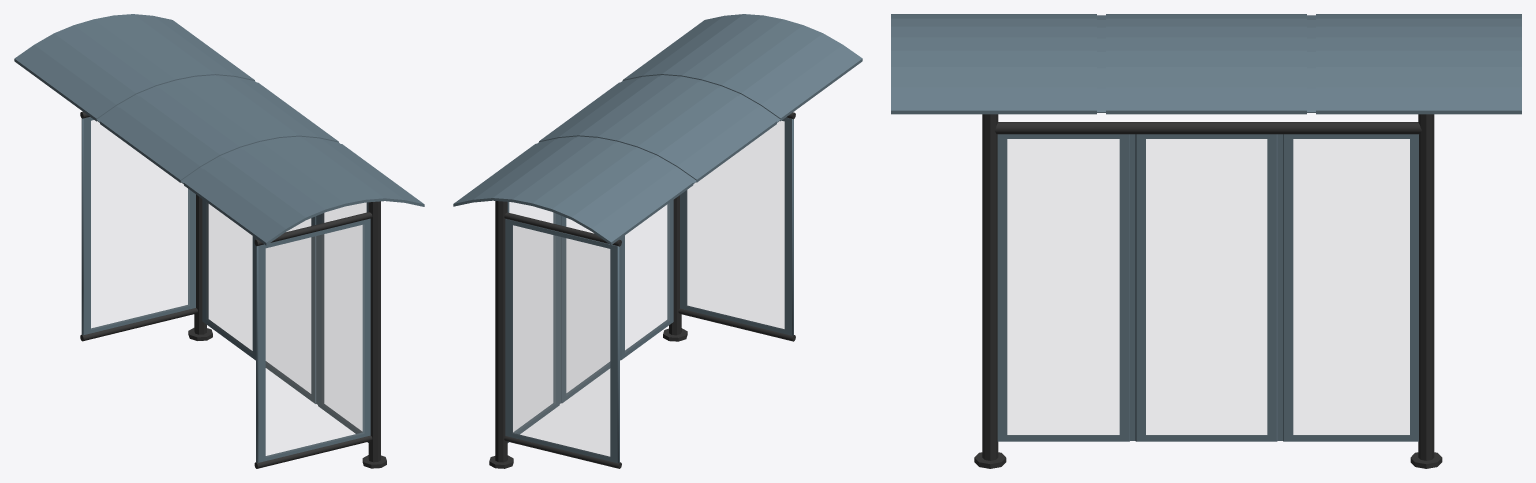
Rendered from BusStop.fbx.
3 renders of one model, left to right at view 1: azimuth 30°, elevation 25°; view 2: azimuth 150°, elevation 25°; view 3: azimuth 270°, elevation 25°, orthographic. The views are drawn at different scales.
Visible parts, largest first — view 1: Cover, Side2, Backside, Side1, Pole1, Pole2, BottomBar1, SideTopBar1, BottomBar2; view 2: Cover, Side1, Backside, Side2, Pole2, Pole1, SideTopBar2, BottomBar2, BottomBar1; view 3: Backside, Cover, Pole2, Pole1, TopBar.
Boxes of the visible parts, x1,y1,x2,y2 form: Cover: (14,14,424,245); Side2: (256,218,370,462); Backside: (202,199,368,442); Side1: (81,117,195,335); Pole1: (362,201,386,468); Pole2: (188,194,212,340); BottomBar1: (80,308,197,341); SideTopBar1: (254,212,372,245); BottomBar2: (254,435,372,468); Cover: (453,14,862,245); Side1: (505,219,619,463); Backside: (507,200,673,442); Side2: (680,117,793,335); Pole2: (489,201,513,468); Pole1: (663,195,687,341); SideTopBar2: (504,212,621,246); BottomBar2: (678,308,795,341); BottomBar1: (504,436,621,468); Backside: (997,134,1418,441); Cover: (891,14,1521,114); Pole2: (1410,114,1442,468); Pole1: (974,114,1006,468); TopBar: (994,122,1421,134).
Bounding box in the file's own units: 424 × 778 × 1162.
